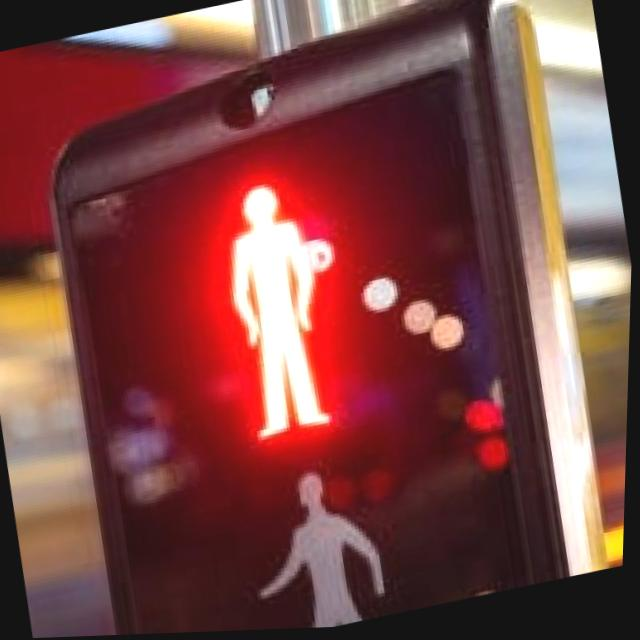red_light: (163, 142, 391, 460)
